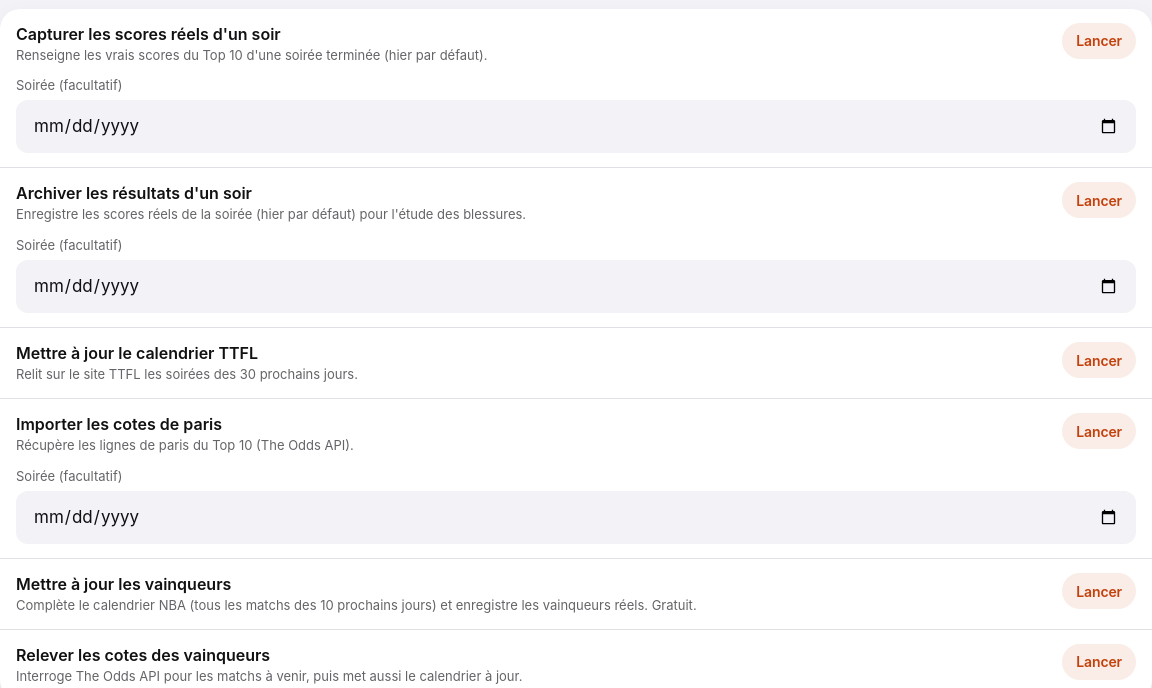
ActionsPC › affiche le refus du serveur
(page scrolled)
Step 1. Click the button with aria-label "Lancer : Mettre à jour le calendrier TTFL" → {"x": 1099, "y": 360}, box [1062,342,1136,378]
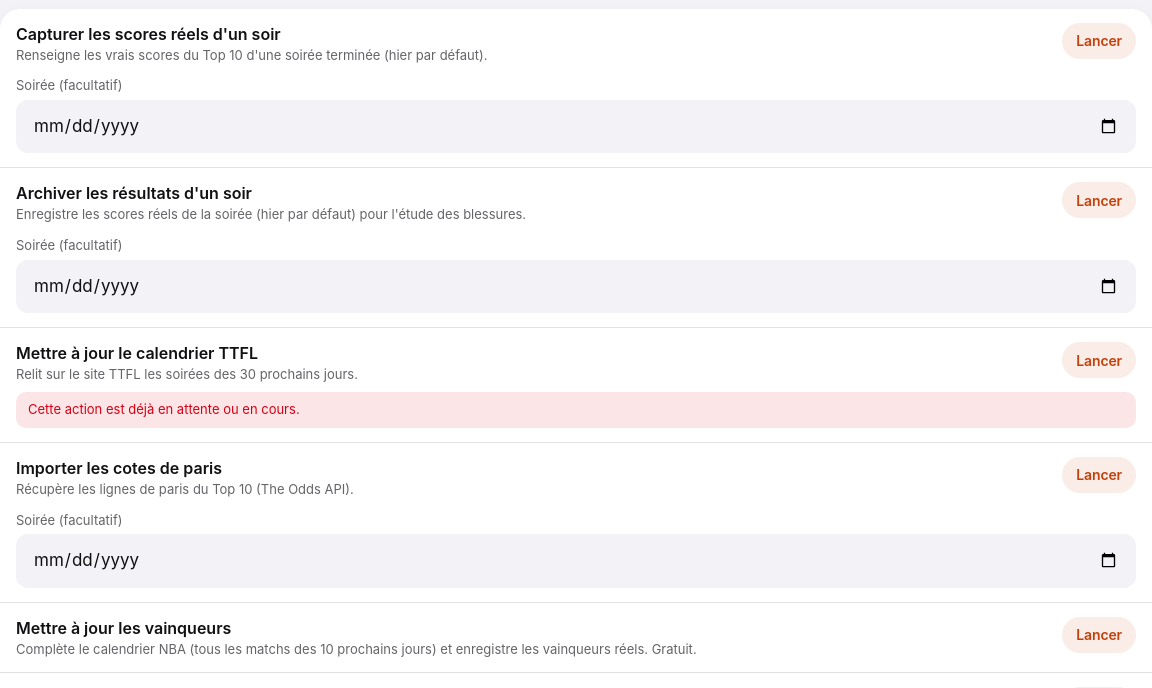
Result: the text "Cette action est déjà en attente ou en cours." is shown at [16,392,1136,428]
